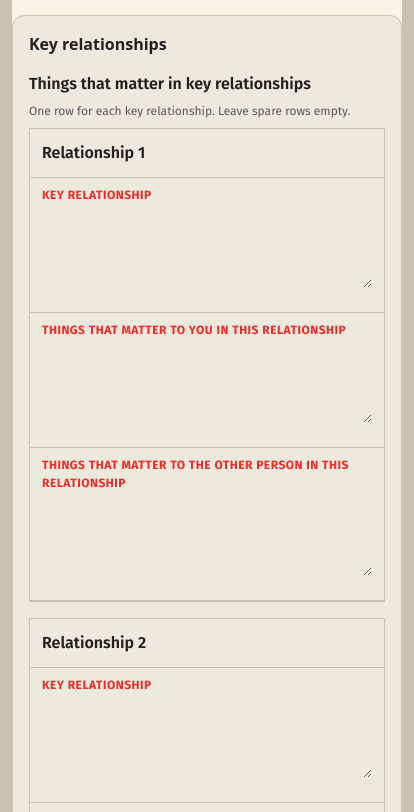
guidance on a LEP worksheet › says what is missing beside Submit, and follows the learner as they type
The image size is (414, 812).
In the text box named "Relationship 1 — Key relationship": point(207, 252) [42,216,372,288], type "My manager"
(page scrolled)
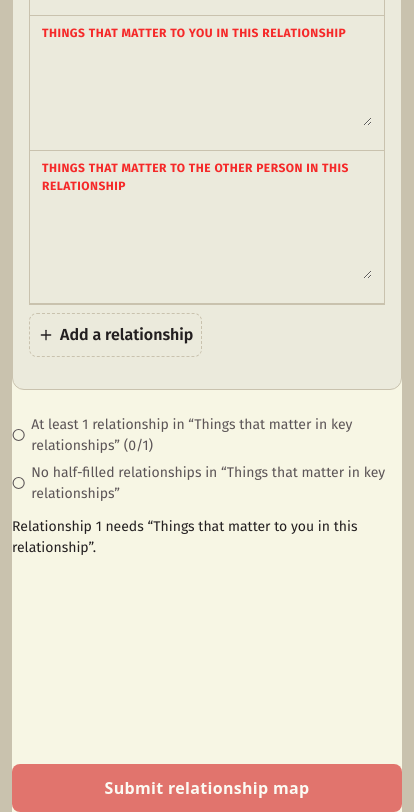
Expected: the text "Relationship 1 needs “Things that matter to you in this relationship”." is shown, [12,518,357,556]
